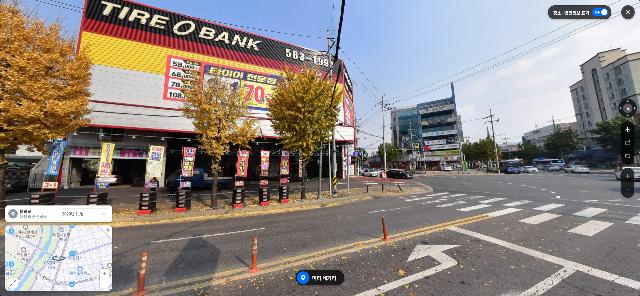ginkgo: (179, 63, 264, 208), (266, 59, 343, 200)
other: (0, 0, 96, 156), (586, 116, 639, 166), (541, 128, 586, 166), (461, 137, 499, 172), (369, 143, 407, 171), (516, 137, 544, 167)
